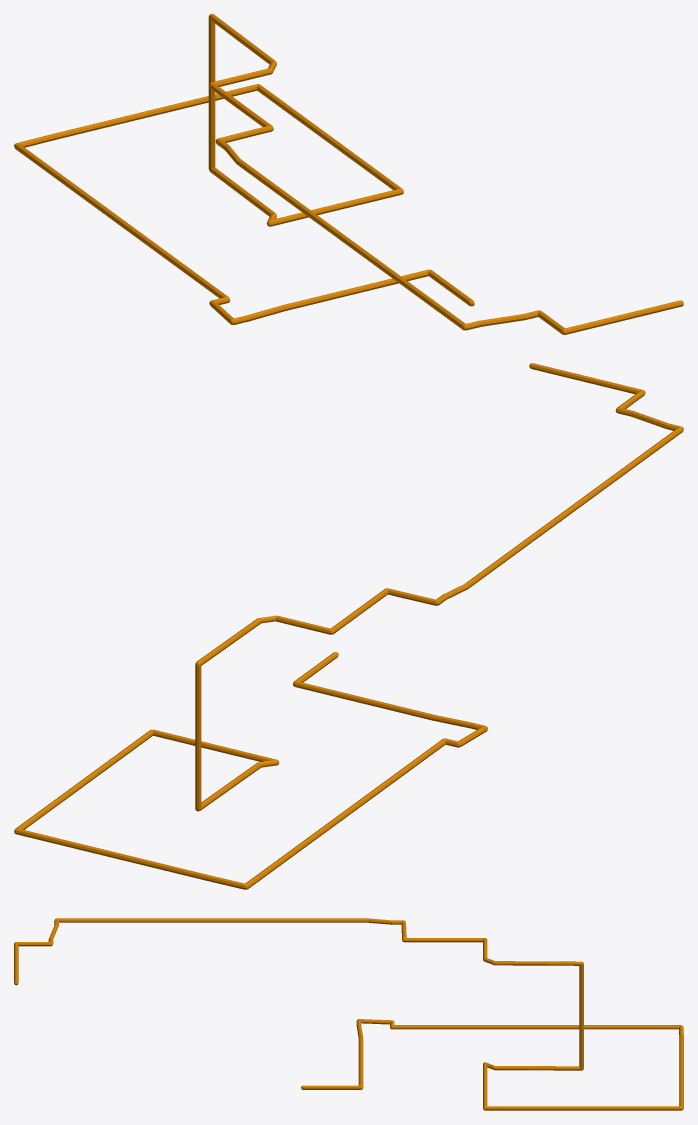
3 renders of one model, top to bottom at view 1: azimuth 30°, elevation 25°; view 2: azimuth 150°, elevation 25°; view 3: azimuth 270°, elevation 25°, orthographic. The views are drawn at different scales.
Bounding box in the file's own units: 912 × 520 × 2898.
